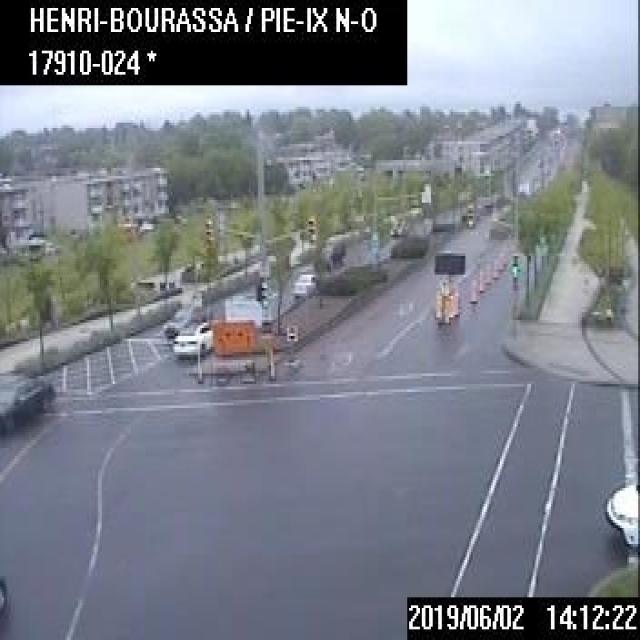construction: (196, 296, 273, 384), (431, 251, 464, 317), (434, 286, 440, 316), (469, 277, 476, 301), (442, 296, 448, 322), (452, 290, 457, 314), (447, 292, 452, 315), (477, 268, 482, 291), (484, 262, 489, 283), (491, 258, 496, 278), (497, 251, 501, 268)
vehicle: (0, 368, 55, 435), (602, 482, 638, 546), (171, 320, 213, 357), (163, 304, 208, 336), (289, 272, 316, 296), (0, 571, 9, 624), (389, 218, 406, 234)
